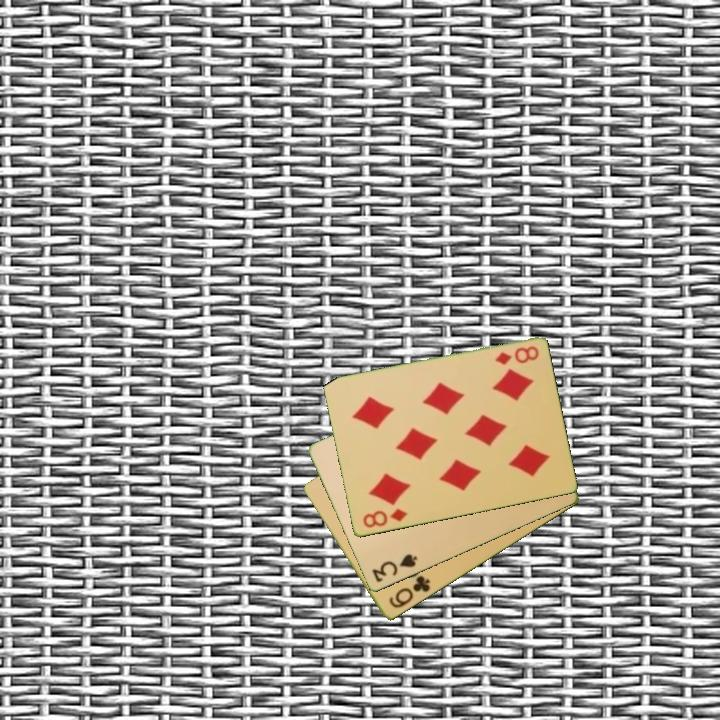3s: (368, 551, 420, 585)
6c: (385, 572, 433, 612)
8d: (359, 505, 410, 531), (491, 343, 542, 368)
